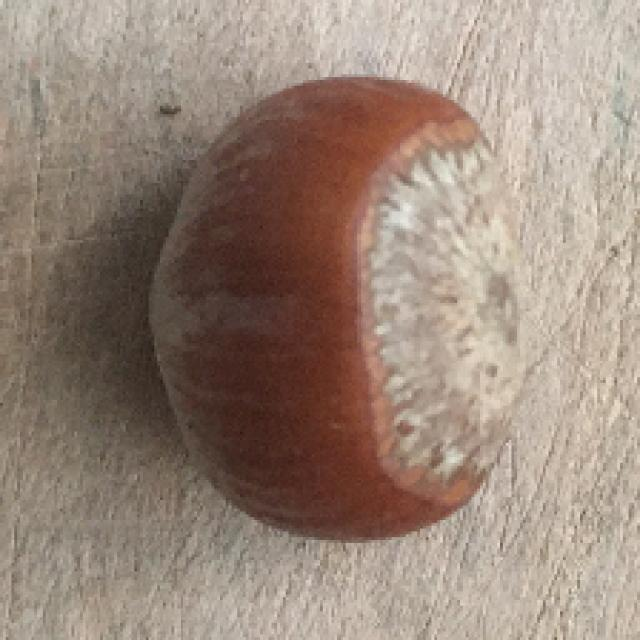qualityHazelnut: (136, 66, 535, 552)
